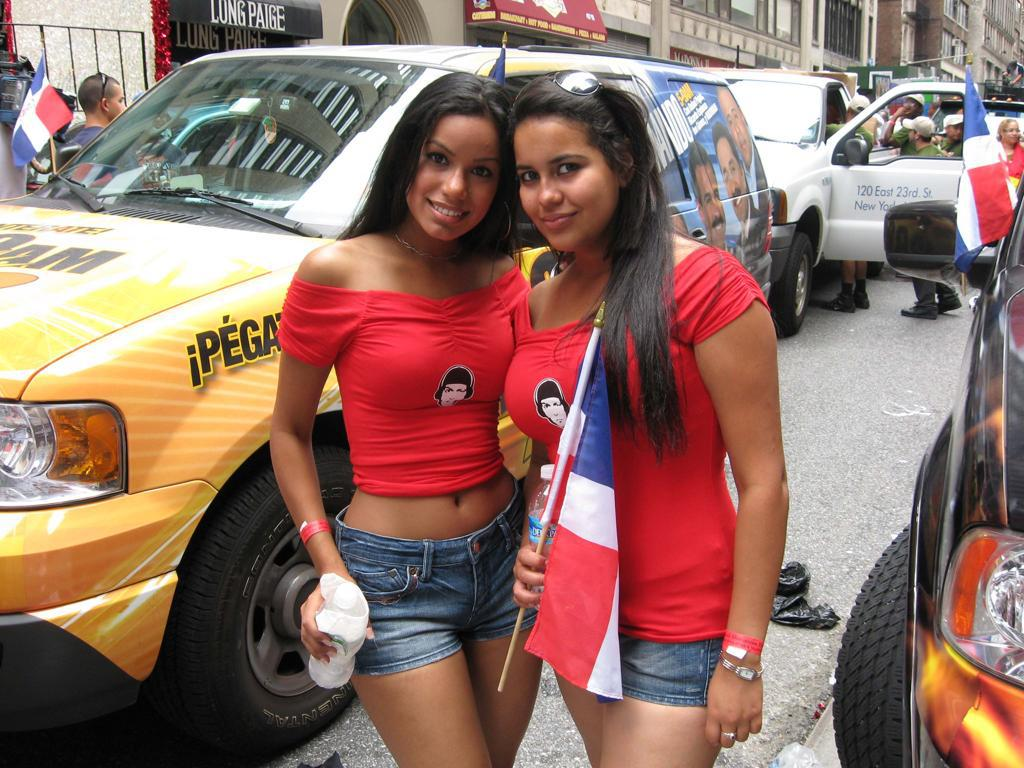face: (513, 116, 621, 252), (404, 113, 501, 243), (716, 139, 751, 222), (718, 90, 753, 167), (696, 162, 726, 246), (110, 82, 128, 127), (903, 97, 919, 117), (1006, 123, 1020, 144), (949, 124, 964, 142), (909, 127, 919, 144), (847, 108, 855, 124), (1011, 64, 1018, 70)
